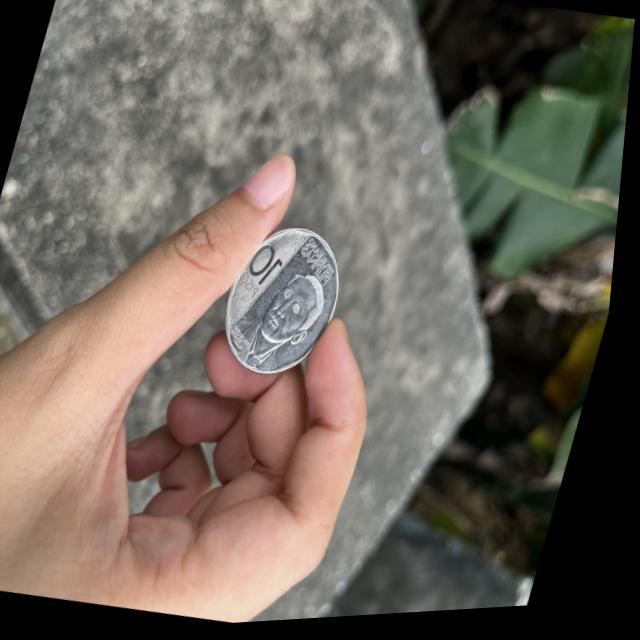10_New_Front: (237, 240, 305, 310)
